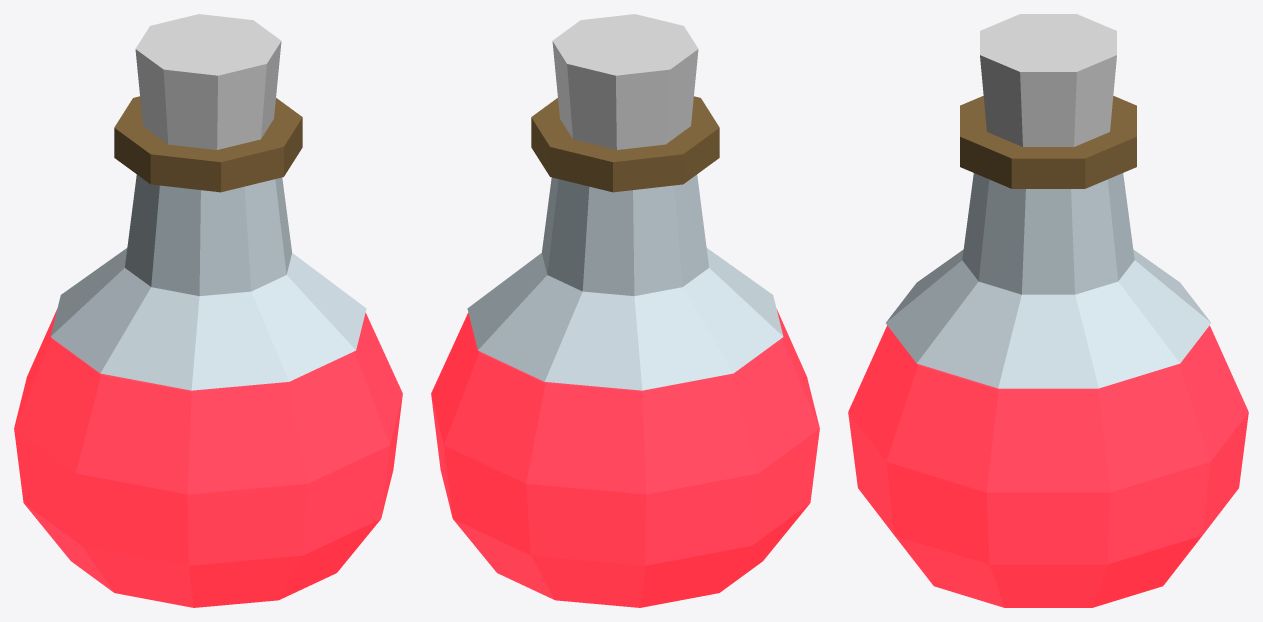
File: loot_potion_life.glb
3 views of the same model, side by side, from view 1: azimuth 30°, elevation 25°; view 2: azimuth 150°, elevation 25°; view 3: azimuth 270°, elevation 25° (orthographic).
Parts seen in each view (by area): view 1: loot_potion_life; view 2: loot_potion_life; view 3: loot_potion_life.
Part boxes in pixels (left/top/right/bottom): loot_potion_life: left=14, top=14, right=402, bottom=607; loot_potion_life: left=431, top=14, right=819, bottom=607; loot_potion_life: left=848, top=14, right=1248, bottom=607.
Bounding box in the file's own units: 0.1591 × 0.238 × 0.1673.
